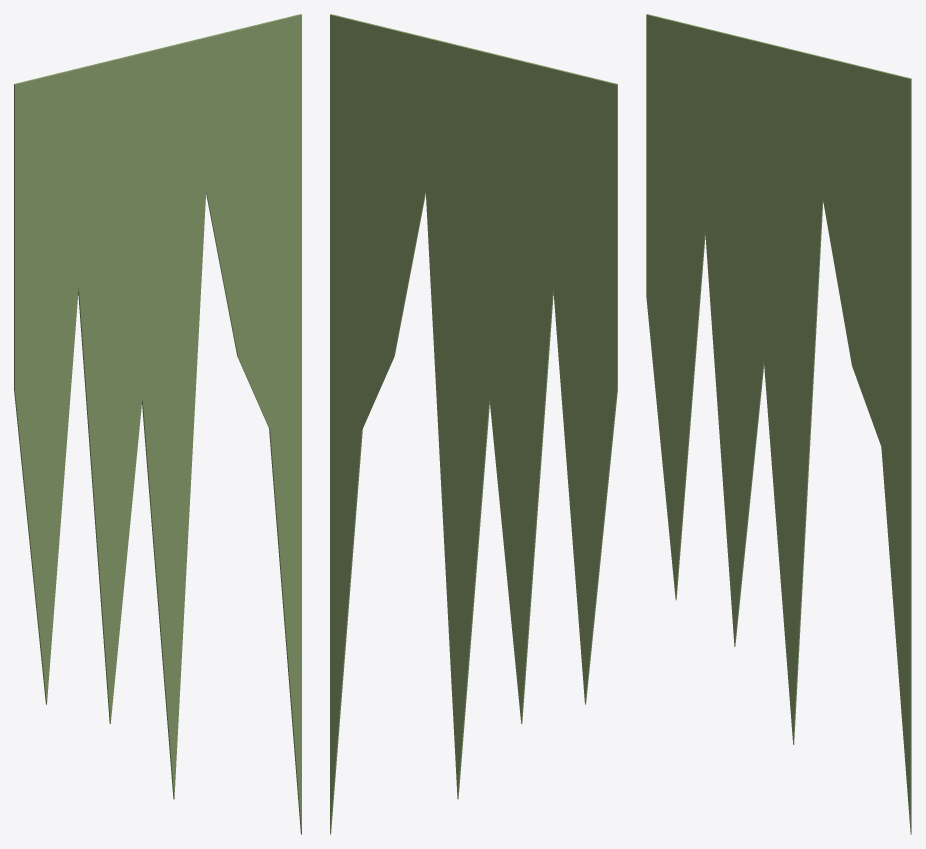
The model's file is moss_b.glb.
3 views of the same model, side by side, from view 1: azimuth 30°, elevation 25°; view 2: azimuth 150°, elevation 25°; view 3: azimuth 330°, elevation 25° (orthographic). The views are drawn at different scales.
Visible parts, largest first — view 1: moss_b; view 2: moss_b; view 3: moss_b.
Part boxes in pixels (x1=…): moss_b: x1=14, y1=14, x2=301, y2=834; moss_b: x1=330, y1=14, x2=617, y2=834; moss_b: x1=646, y1=14, x2=911, y2=834.
Size of the model in its own units: 1.6 by 4.37 by 0.01.
